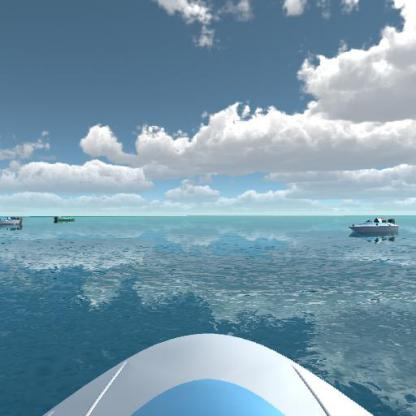usv0: (52, 212, 78, 228)
usv1: (347, 214, 401, 239), (0, 211, 26, 231)
